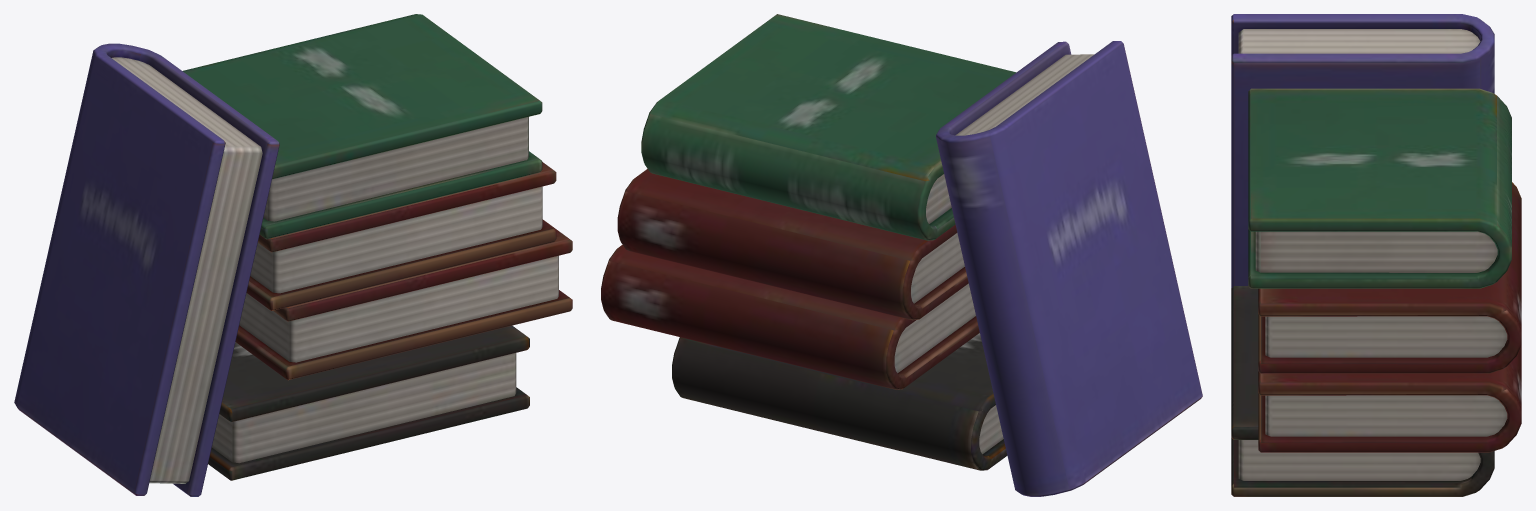
The model's file is SM_Book001_stack04.glb.
3 views of the same model, side by side, from view 1: azimuth 30°, elevation 25°; view 2: azimuth 150°, elevation 25°; view 3: azimuth 270°, elevation 25° (orthographic). The views are drawn at different scales.
Parts seen in each view (by area): view 1: SM_Book001_stack04; view 2: SM_Book001_stack04; view 3: SM_Book001_stack04.
Boxes of the visible parts, x1,y1,x2,y2 form: SM_Book001_stack04: [14, 14, 572, 496]; SM_Book001_stack04: [601, 14, 1202, 496]; SM_Book001_stack04: [1231, 14, 1521, 496].
Bounding box in the file's own units: 0.5999 × 0.447 × 0.3428.
1 material, 1 textured.
